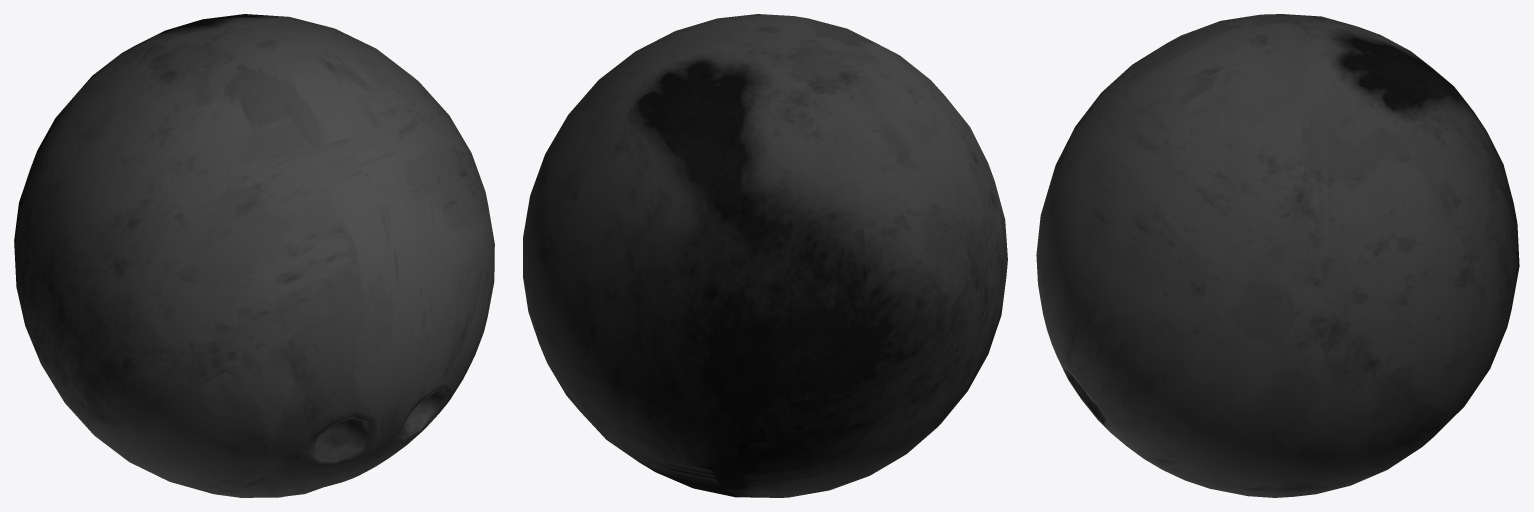
The model's file is projectile1.glb.
The picture shows the model from 3 angles, left to right: view 1: azimuth 30°, elevation 25°; view 2: azimuth 150°, elevation 25°; view 3: azimuth 270°, elevation 25°; orthographic projection.
Visible parts, largest first — view 1: ball; view 2: ball; view 3: ball.
Boxes of the visible parts, bbox=[...] form: ball: bbox=[14, 14, 494, 497]; ball: bbox=[523, 14, 1007, 497]; ball: bbox=[1036, 14, 1519, 497].
Size of the model in its own units: 1 by 1 by 1.
Materials: 1 (1 with a texture image).
